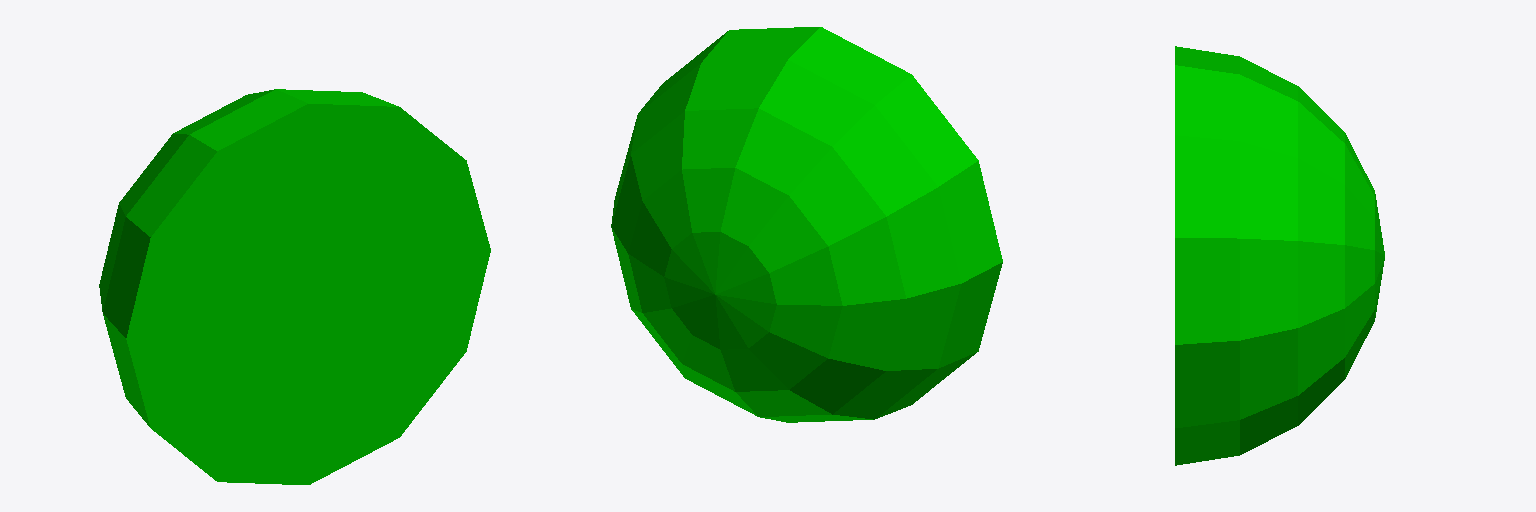
File: green_light.obj
The picture shows the model from 3 angles: view 1: azimuth 30°, elevation 25°; view 2: azimuth 150°, elevation 25°; view 3: azimuth 270°, elevation 25°; orthographic projection.
Parts seen in each view (by area): view 1: Esfera.000; view 2: Esfera.000; view 3: Esfera.000.
Part boxes in pixels (left/top/right/bottom): Esfera.000: left=99, top=89, right=490, bottom=484; Esfera.000: left=611, top=27, right=1002, bottom=422; Esfera.000: left=1175, top=46, right=1384, bottom=465.
Size of the model in its own units: 0.9253 by 0.9253 by 0.4627.